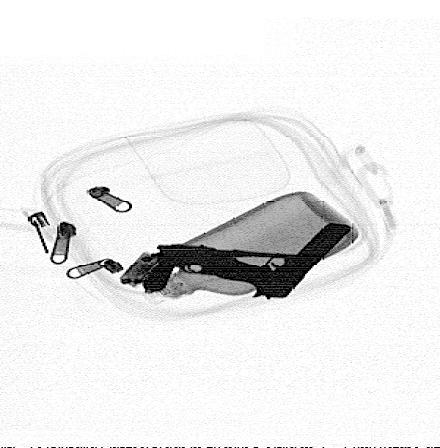Gun: (205, 223, 353, 302), (142, 243, 319, 293)
